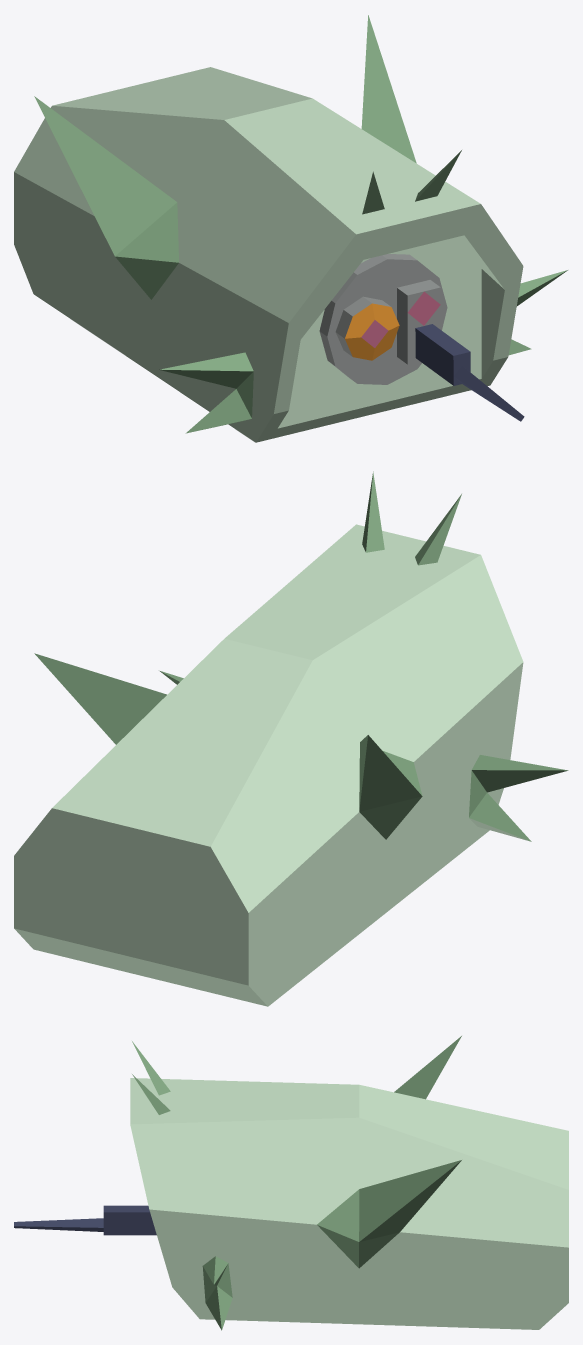
File: sylph head.glb
The picture shows the model from 3 angles, top to bottom: view 1: azimuth 30°, elevation 25°; view 2: azimuth 150°, elevation 25°; view 3: azimuth 270°, elevation 25°; orthographic projection. The views are drawn at different scales.
Parts seen in each view (by area): view 1: head; view 2: head; view 3: head.
Part boxes in pixels (bbox=[...]): head: bbox=[14, 15, 567, 442]; head: bbox=[14, 471, 568, 1006]; head: bbox=[14, 1036, 568, 1330].
Bounding box in the file's own units: 0.423 × 0.2961 × 0.649.
Materials: 1 (1 with a texture image).
